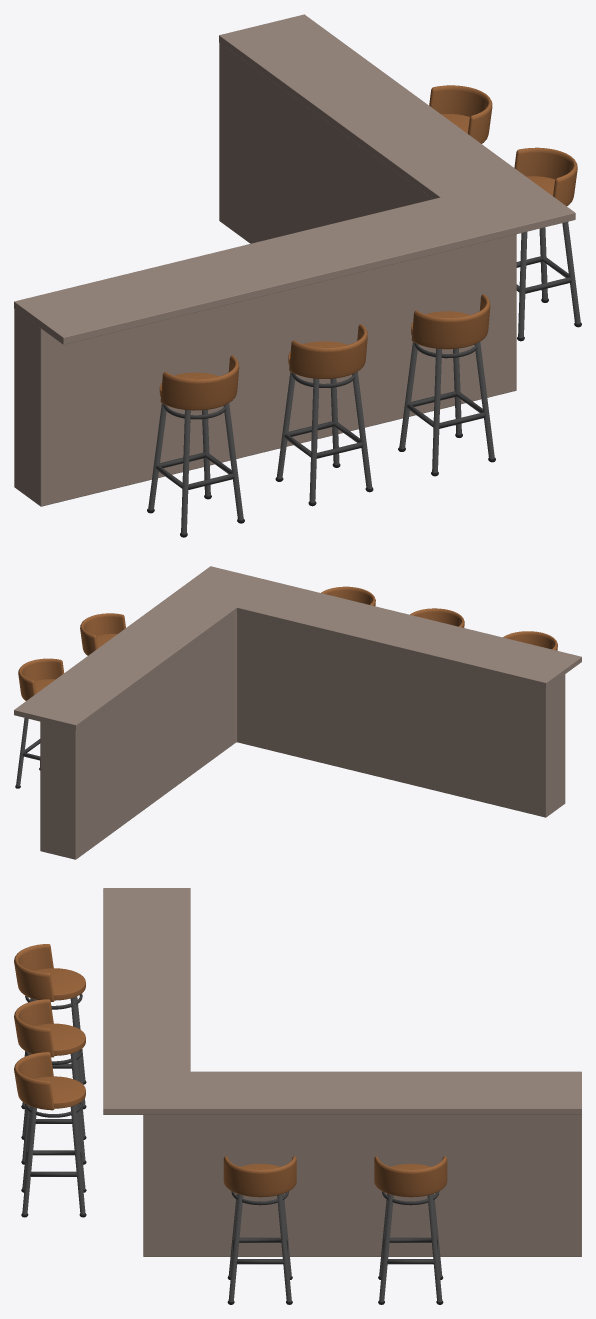
File: bar_area.fbx
The picture shows the model from 3 angles, top to bottom: view 1: azimuth 30°, elevation 25°; view 2: azimuth 150°, elevation 25°; view 3: azimuth 270°, elevation 25°; orthographic projection. The views are drawn at different scales.
Visible parts, largest first — view 1: Cube.002, Cube.062, chair_whole.004, chair_whole.003, chair_whole.005, Cylinder.003, chair_back, chair_whole.006, Torus.006; view 2: Cube.002, Cube.062, chair_whole.006, chair_whole.005, chair_whole.003, chair_whole.004, chair_back; view 3: Cube.002, Cube.062, chair_whole.004, chair_whole.005, chair_whole.006, chair_whole.003, chair_back, chair_whole.
Part boxes in pixels (x1,y1,x2,y2): Cube.002: (14,43,516,506); Cube.062: (14,14,575,344); chair_whole.004: (398,294,495,476); chair_whole.003: (275,324,373,506); chair_whole.005: (514,147,581,341); Cylinder.003: (147,403,244,537); chair_back: (160,355,239,410); chair_whole.006: (429,85,492,143); Torus.006: (156,452,234,489); Cube.002: (40,612,565,859); Cube.062: (14,566,581,729); chair_whole.006: (15,658,63,788); chair_whole.005: (80,613,125,655); chair_whole.003: (410,608,464,627); chair_whole.004: (321,586,375,606); chair_back: (503,631,557,650); Cube.002: (143,1115,581,1256); Cube.062: (103,888,581,1114); chair_whole.004: (14,1052,86,1217); chair_whole.005: (223,1156,296,1304); chair_whole.006: (374,1156,447,1304); chair_whole.003: (14,999,86,1164); chair_back: (14,944,54,1001); chair_whole: (35,968,85,1000).
Size of the model in its own units: 343 by 102 by 320.
